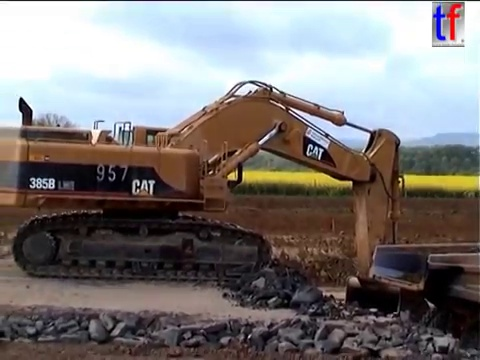excavator: (3, 75, 423, 349)
truck: (366, 238, 480, 360)
